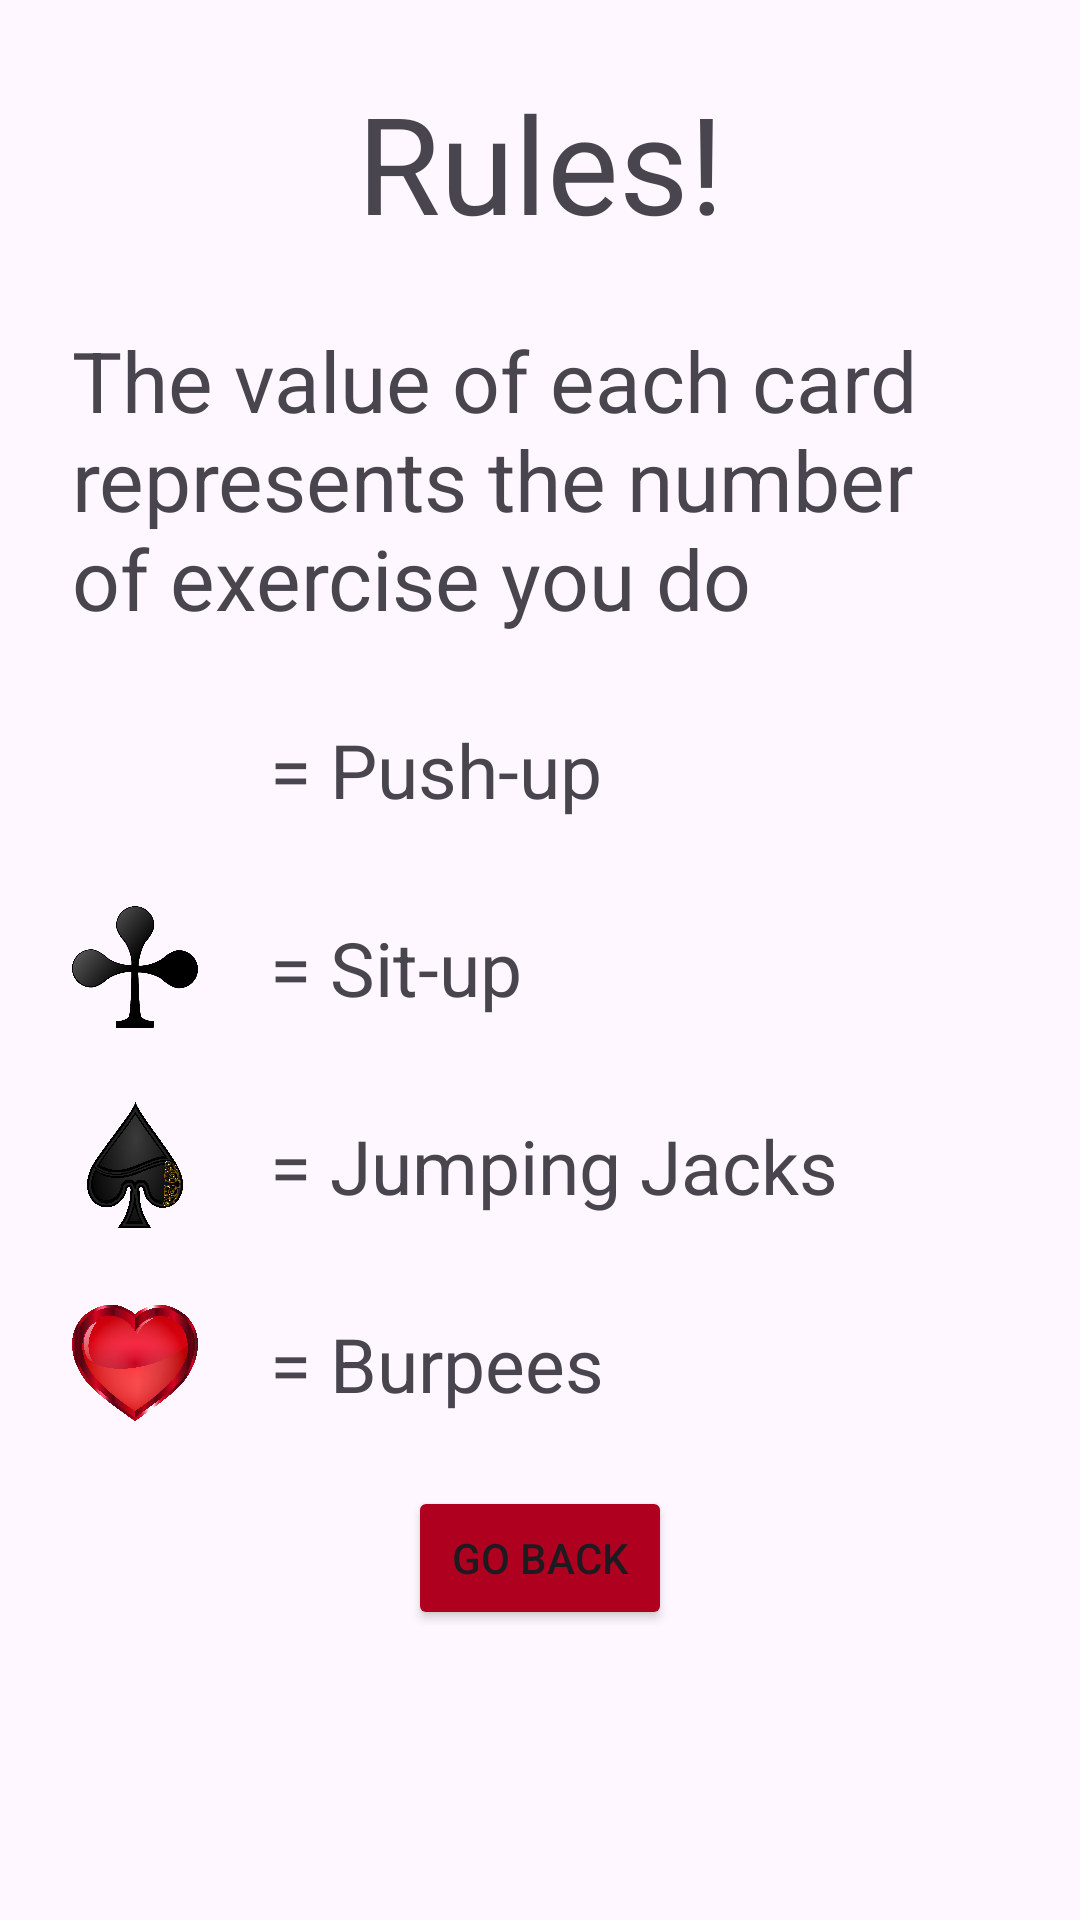

Locate icon controls on the screen. Image size 1080w x 1920h, boxes as [x1=x1, y1=y1, x2=x2, y2=y2].
kupa: [x1=72, y1=1305, x2=198, y2=1421]
maca: [x1=87, y1=1102, x2=183, y2=1228]
sinek: [x1=72, y1=906, x2=198, y2=1028]
